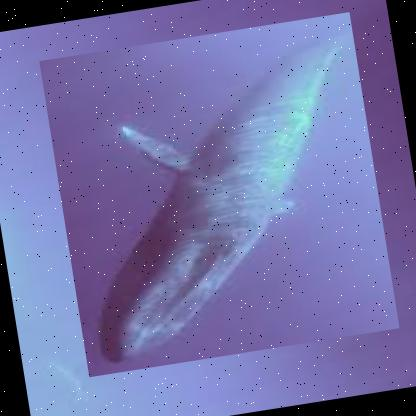blue_whale: (39, 11, 400, 376)
